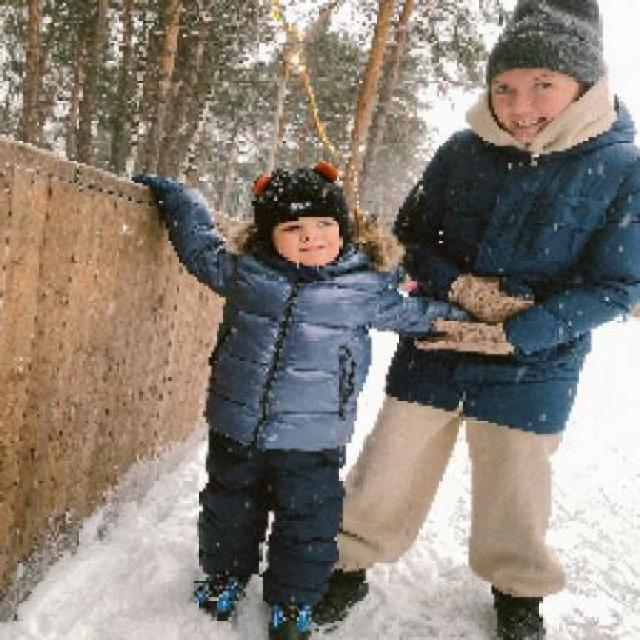child: (128, 160, 472, 637)
